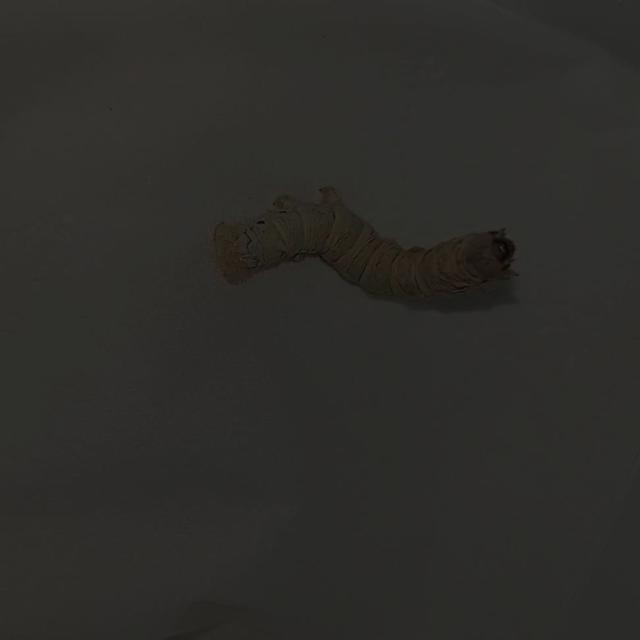Healthy: (199, 171, 544, 324)
